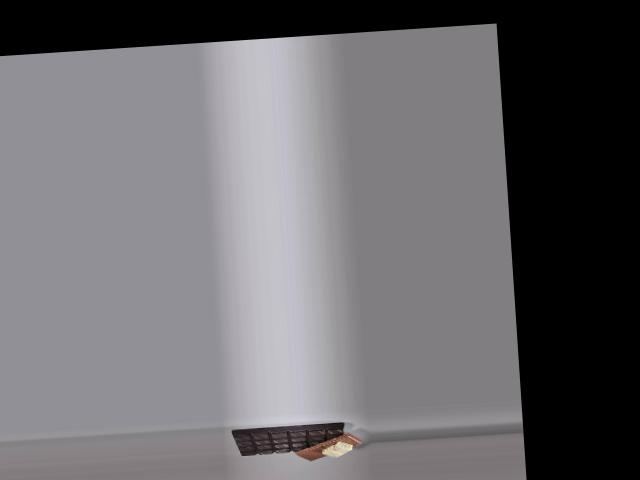chocolate: (230, 418, 353, 460)
